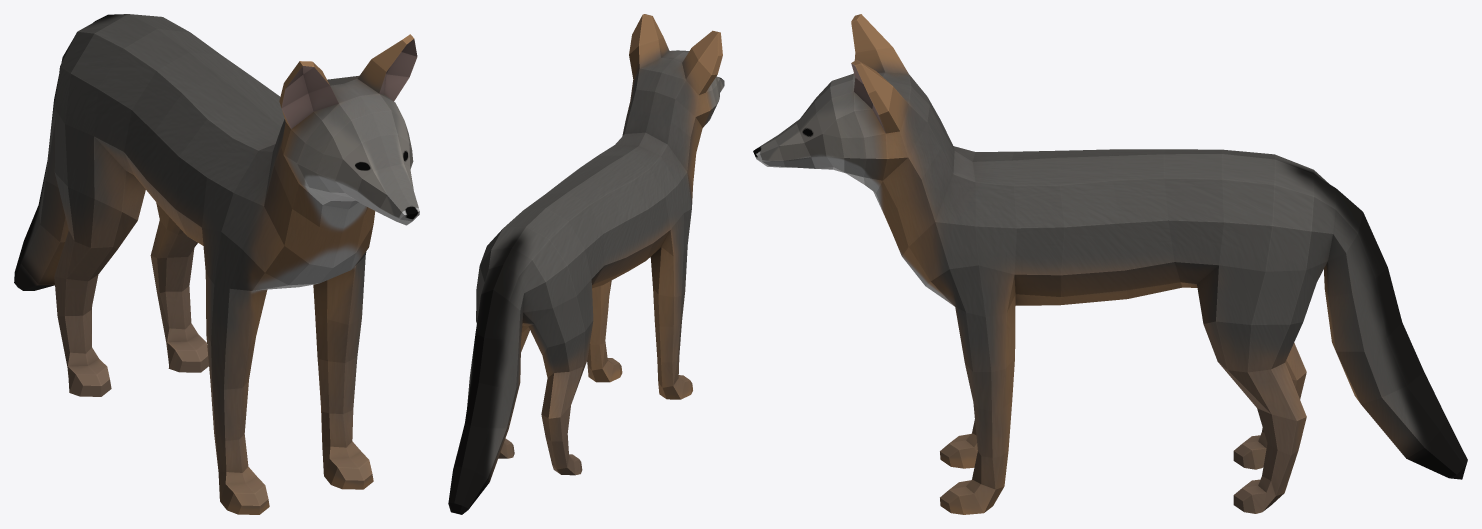
File: GraxyFox.obj
3 views of the same model, side by side, from view 1: azimuth 30°, elevation 25°; view 2: azimuth 150°, elevation 25°; view 3: azimuth 270°, elevation 25° (orthographic). The views are drawn at different scales.
Parts seen in each view (by area): view 1: GrayFox_Mesh; view 2: GrayFox_Mesh; view 3: GrayFox_Mesh.
Boxes of the visible parts, x1,y1,x2,y2 form: GrayFox_Mesh: (14, 14, 419, 514); GrayFox_Mesh: (448, 14, 724, 514); GrayFox_Mesh: (753, 14, 1467, 514).
Size of the model in its own units: 1.15 by 3.62 by 5.28.
1 material, 1 textured.
